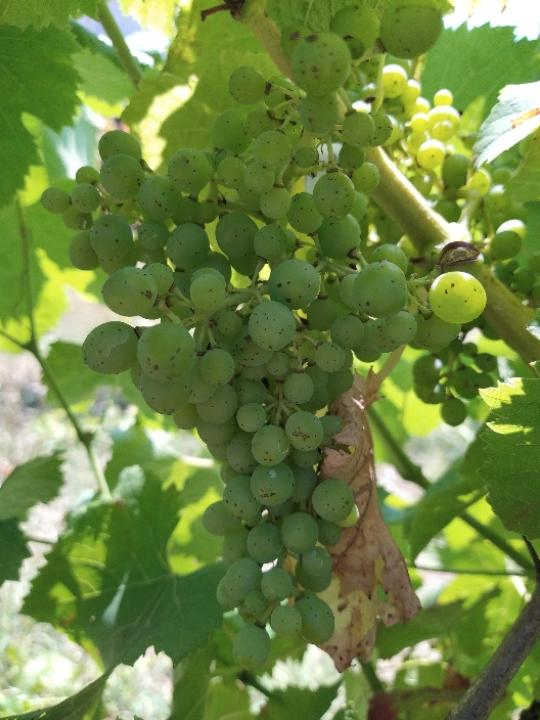grape: (37, 0, 492, 678)
